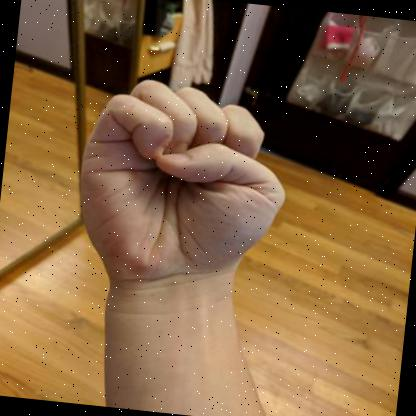E: (79, 79, 285, 299)
